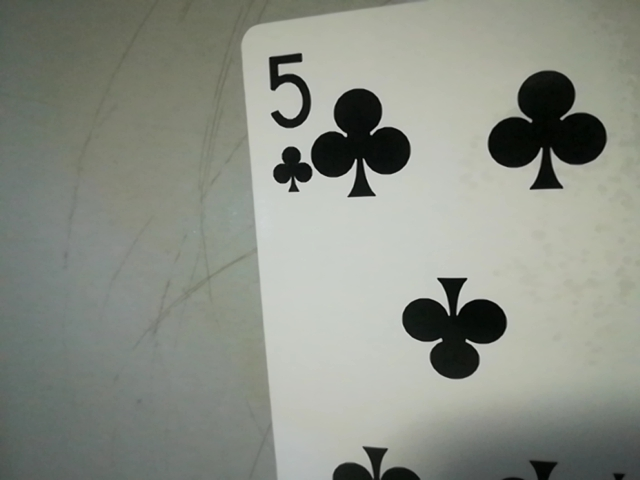mh 5: (255, 44, 318, 198)
